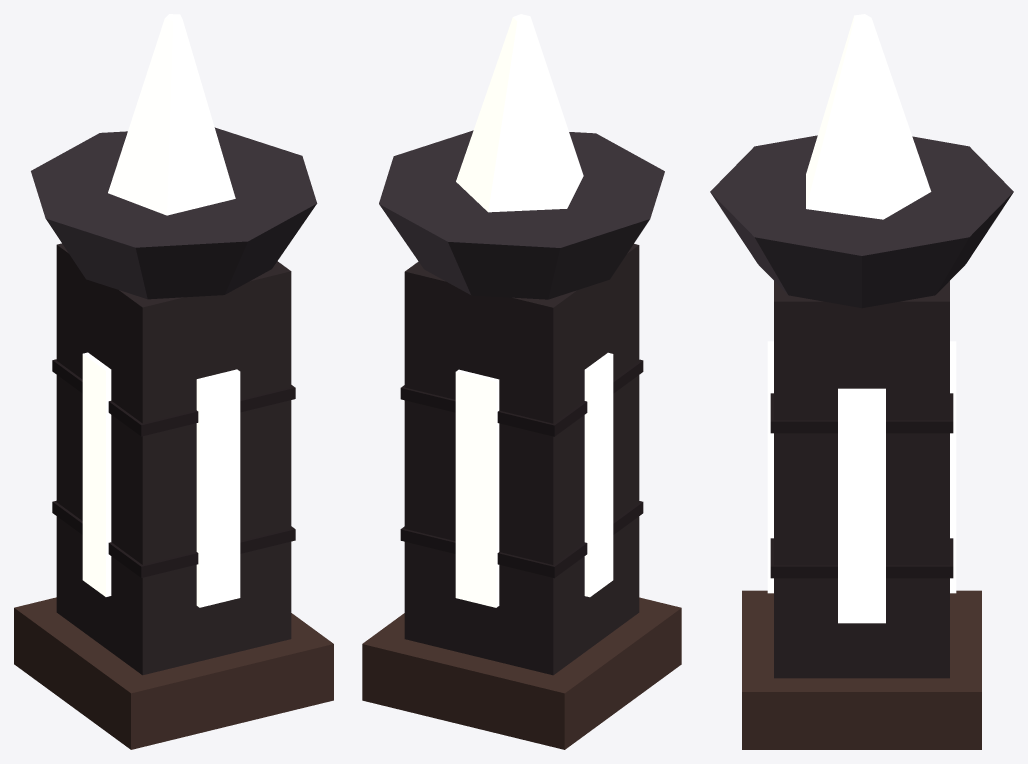
Rendered from fire_pillar.glb.
3 renders of one model, left to right at view 1: azimuth 30°, elevation 25°; view 2: azimuth 150°, elevation 25°; view 3: azimuth 270°, elevation 25°, orthographic. The views are drawn at different scales.
Visible parts, largest first — view 1: fire_pillar, Flame; view 2: fire_pillar, Flame; view 3: fire_pillar, Flame.
Boxes of the visible parts, x1,y1,x2,y2 form: fire_pillar: (14,127,333,749); Flame: (108,14,235,215); fire_pillar: (362,130,681,749); Flame: (456,14,583,212); fire_pillar: (710,135,1013,749); Flame: (806,14,931,219).
Size of the model in its own units: 1.9 by 4.7 by 1.9.
